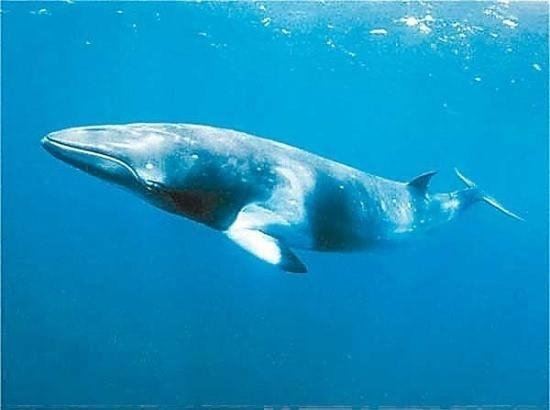fish: (39, 112, 525, 275)
